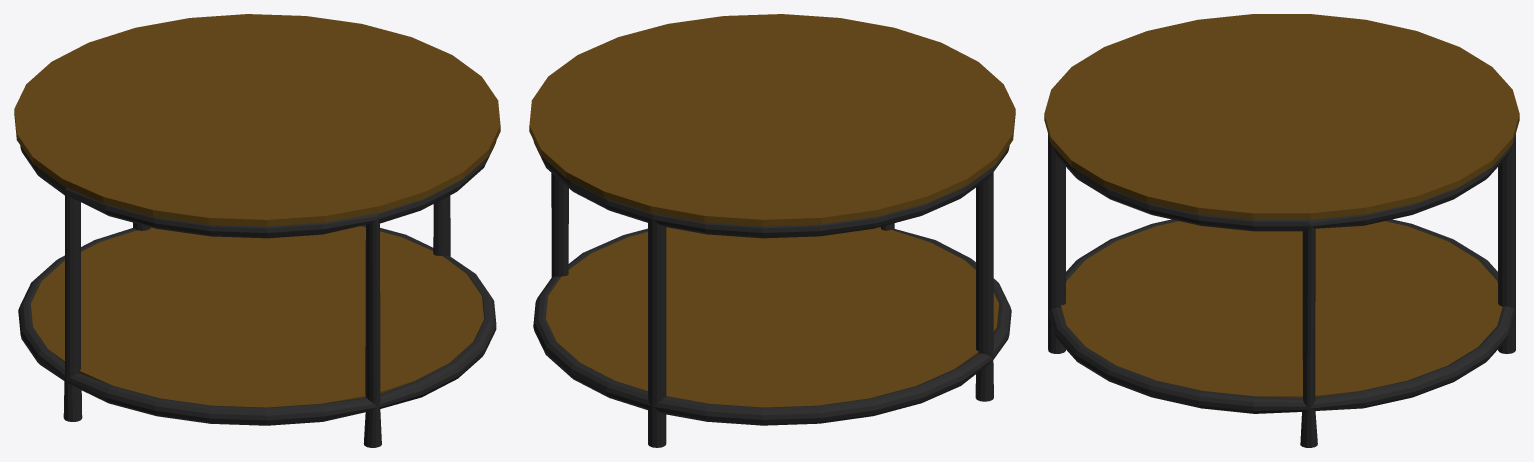
The model's file is CircleTable2.fbx.
3 views of the same model, side by side, from view 1: azimuth 30°, elevation 25°; view 2: azimuth 150°, elevation 25°; view 3: azimuth 270°, elevation 25° (orthographic). The views are drawn at different scales.
Parts seen in each view (by area): view 1: CircleTable2; view 2: CircleTable2; view 3: CircleTable2.
Part boxes in pixels (<box>): CircleTable2: <box>14,14,500,447</box>; CircleTable2: <box>529,14,1015,447</box>; CircleTable2: <box>1044,14,1519,447</box>.
Bounding box in the file's own units: 267 × 148 × 269.
